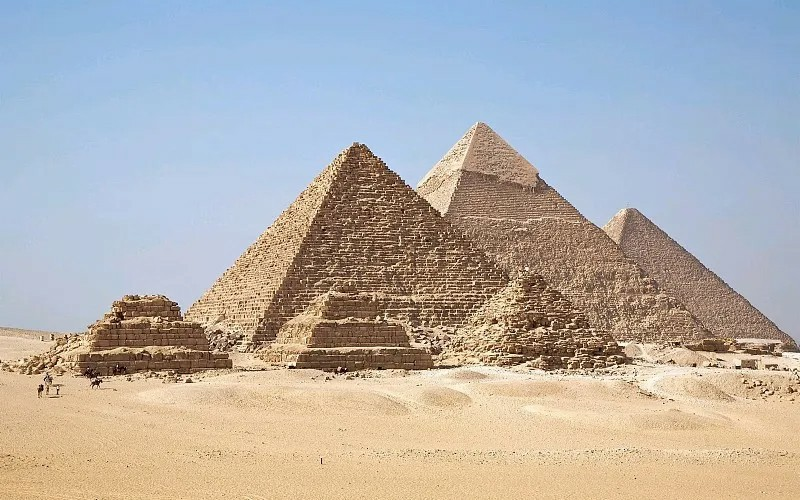Pyramid: (180, 142, 510, 356), (418, 121, 722, 349), (603, 206, 799, 347), (446, 271, 635, 369), (262, 288, 435, 371), (58, 295, 233, 375)
